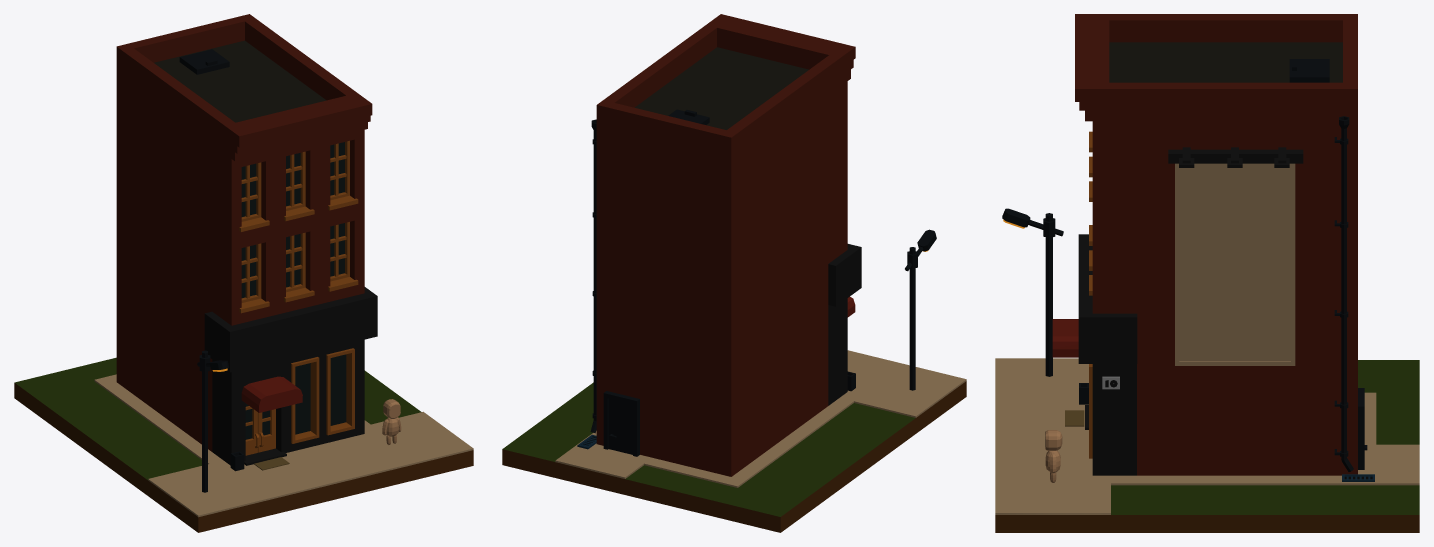
File: SF_Modern Building 10.fbx
3 renders of one model, left to right at view 1: azimuth 30°, elevation 25°; view 2: azimuth 150°, elevation 25°; view 3: azimuth 270°, elevation 25°, orthographic. The views are drawn at different scales.
Visible parts, largest first — view 1: Group815, Box16688, Box16689, Box17370, Box17371, Box16702, Box16696, Plane1448, Plane1447, Box16699, street_light_037, Box16703; view 2: Box16688, Group815, Box17370, Box17371, Box16689, Box16704, Box16696, Box16702, street_light_037, Cylinder1820; view 3: Box16688, Group815, Box16705, Box17370, Box17371, Box16689, Box16696, Box16702, Cylinder1820, street_light_037, Box16699, Box16703 (+1 smaller).
Part boxes in pixels (x1=…): Group815: x1=116, y1=14, x2=372, y2=455; Box16688: x1=116, y1=75, x2=212, y2=451; Box16689: x1=212, y1=130, x2=364, y2=325; Box17370: x1=14, y1=357, x2=473, y2=532; Box17371: x1=94, y1=374, x2=473, y2=517; Box16702: x1=204, y1=287, x2=377, y2=372; Box16696: x1=212, y1=339, x2=364, y2=465; Plane1448: x1=241, y1=142, x2=344, y2=298; Plane1447: x1=245, y1=354, x2=346, y2=439; Box16699: x1=241, y1=376, x2=302, y2=412; street_light_037: x1=197, y1=350, x2=228, y2=492; Box16703: x1=179, y1=49, x2=229, y2=74; Box16688: x1=596, y1=95, x2=828, y2=476; Group815: x1=596, y1=14, x2=855, y2=166; Box17370: x1=502, y1=381, x2=966, y2=532; Box17371: x1=555, y1=350, x2=966, y2=487; Box16689: x1=828, y1=81, x2=847, y2=263; Box16704: x1=603, y1=391, x2=639, y2=456; Box16696: x1=828, y1=298, x2=847, y2=405; Box16702: x1=828, y1=244, x2=861, y2=306; street_light_037: x1=905, y1=229, x2=936, y2=390; Cylinder1820: x1=590, y1=119, x2=596, y2=433; Box16688: x1=1137, y1=121, x2=1357, y2=475; Group815: x1=1075, y1=14, x2=1357, y2=458; Box16705: x1=1168, y1=147, x2=1303, y2=365; Box17370: x1=995, y1=360, x2=1419, y2=532; Box17371: x1=995, y1=358, x2=1419, y2=514; Box16689: x1=1092, y1=121, x2=1136, y2=313; Box16696: x1=1092, y1=364, x2=1136, y2=475; Box16702: x1=1078, y1=234, x2=1137, y2=363; Cylinder1820: x1=1339, y1=116, x2=1353, y2=471; street_light_037: x1=1002, y1=208, x2=1063, y2=376; Box16699: x1=1052, y1=319, x2=1078, y2=357; Box16703: x1=1289, y1=59, x2=1329, y2=82.
Bounding box in the file's own units: 1100 × 1348 × 1274.
